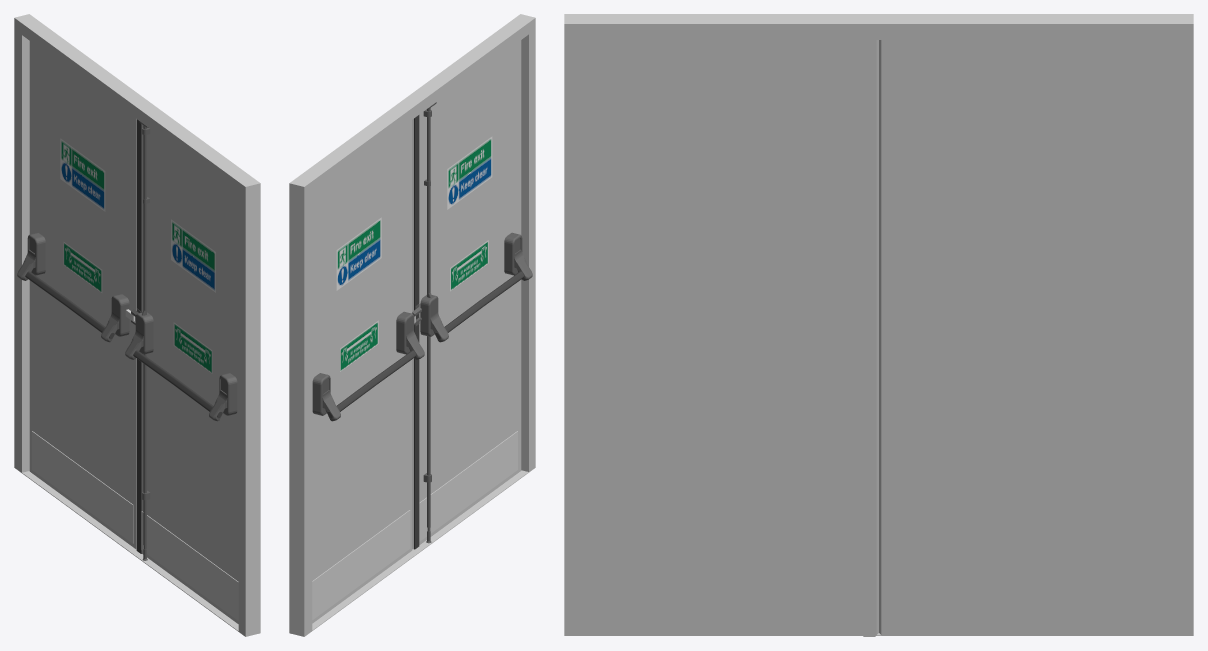
The model's file is Fire Escape.fbx.
The picture shows the model from 3 angles, left to right: view 1: azimuth 30°, elevation 25°; view 2: azimuth 150°, elevation 25°; view 3: azimuth 270°, elevation 25°; orthographic projection. The views are drawn at different scales.
Visible parts, largest first — view 1: Rear Doors, Door Metal guard, Door Handle Mechanism, 316313476cfe2ddee7782e7855b64367, c790c7f50dab9e8a5c5f82b94b61fbc8, Door Handle; view 2: Rear Doors, Door Metal guard, Door Handle Mechanism, 316313476cfe2ddee7782e7855b64367, c790c7f50dab9e8a5c5f82b94b61fbc8, Door Handle; view 3: Rear Doors.
Boxes of the visible parts, bbox=[...] form: Rear Doors: bbox=[14, 14, 260, 636]; Door Metal guard: bbox=[32, 431, 238, 620]; Door Handle Mechanism: bbox=[17, 121, 237, 560]; 316313476cfe2ddee7782e7855b64367: bbox=[60, 138, 215, 292]; c790c7f50dab9e8a5c5f82b94b61fbc8: bbox=[63, 242, 212, 373]; Door Handle: bbox=[25, 271, 222, 418]; Rear Doors: bbox=[289, 14, 535, 636]; Door Metal guard: bbox=[312, 431, 517, 619]; Door Handle Mechanism: bbox=[312, 102, 532, 543]; 316313476cfe2ddee7782e7855b64367: bbox=[336, 136, 492, 290]; c790c7f50dab9e8a5c5f82b94b61fbc8: bbox=[340, 240, 488, 371]; Door Handle: bbox=[327, 271, 524, 418]; Rear Doors: bbox=[564, 14, 1193, 636].
Bounding box in the file's own units: 10.93 × 157 × 145.
Materials: 8 (2 with a texture image).
